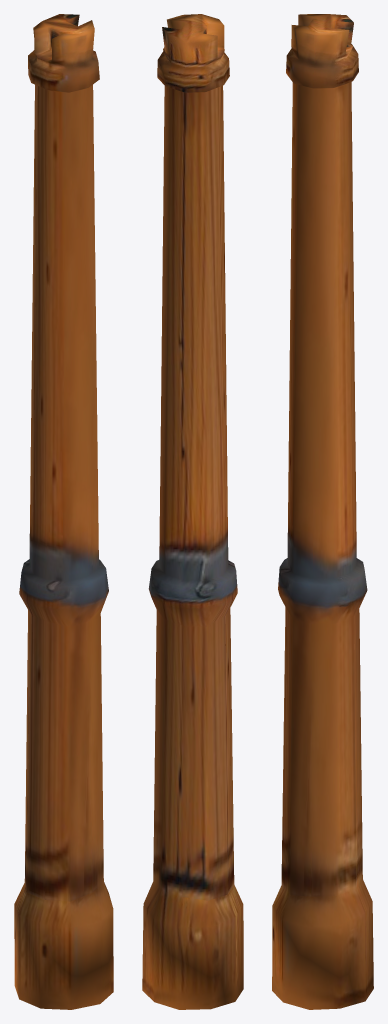
Rendered from foremast.glb.
3 views of the same model, side by side, from view 1: azimuth 30°, elevation 25°; view 2: azimuth 150°, elevation 25°; view 3: azimuth 330°, elevation 25° (orthographic).
Parts seen in each view (by area): view 1: foremast; view 2: foremast; view 3: foremast.
Boxes of the visible parts, box(x1,y1,x2,y2) form: foremast: box(14, 14, 113, 1009); foremast: box(142, 14, 243, 1009); foremast: box(272, 14, 373, 1009).
Bounding box in the file's own units: 0.4 × 4.2 × 0.3902.
1 material, 1 textured.
